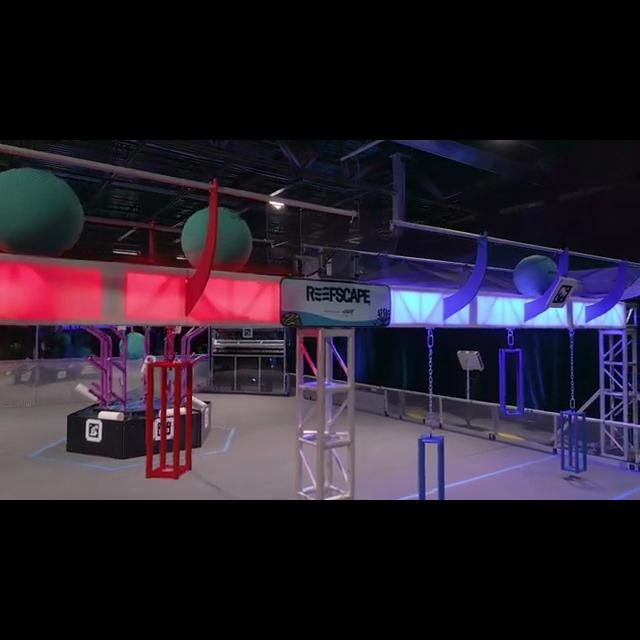ALGAE: (0, 166, 84, 256), (182, 206, 254, 274), (513, 254, 559, 300)
